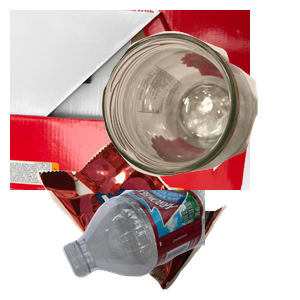cardboard: (10, 10, 250, 190)
glass: (98, 29, 300, 198)
plastic: (60, 190, 300, 280)
trash: (34, 136, 253, 300)
